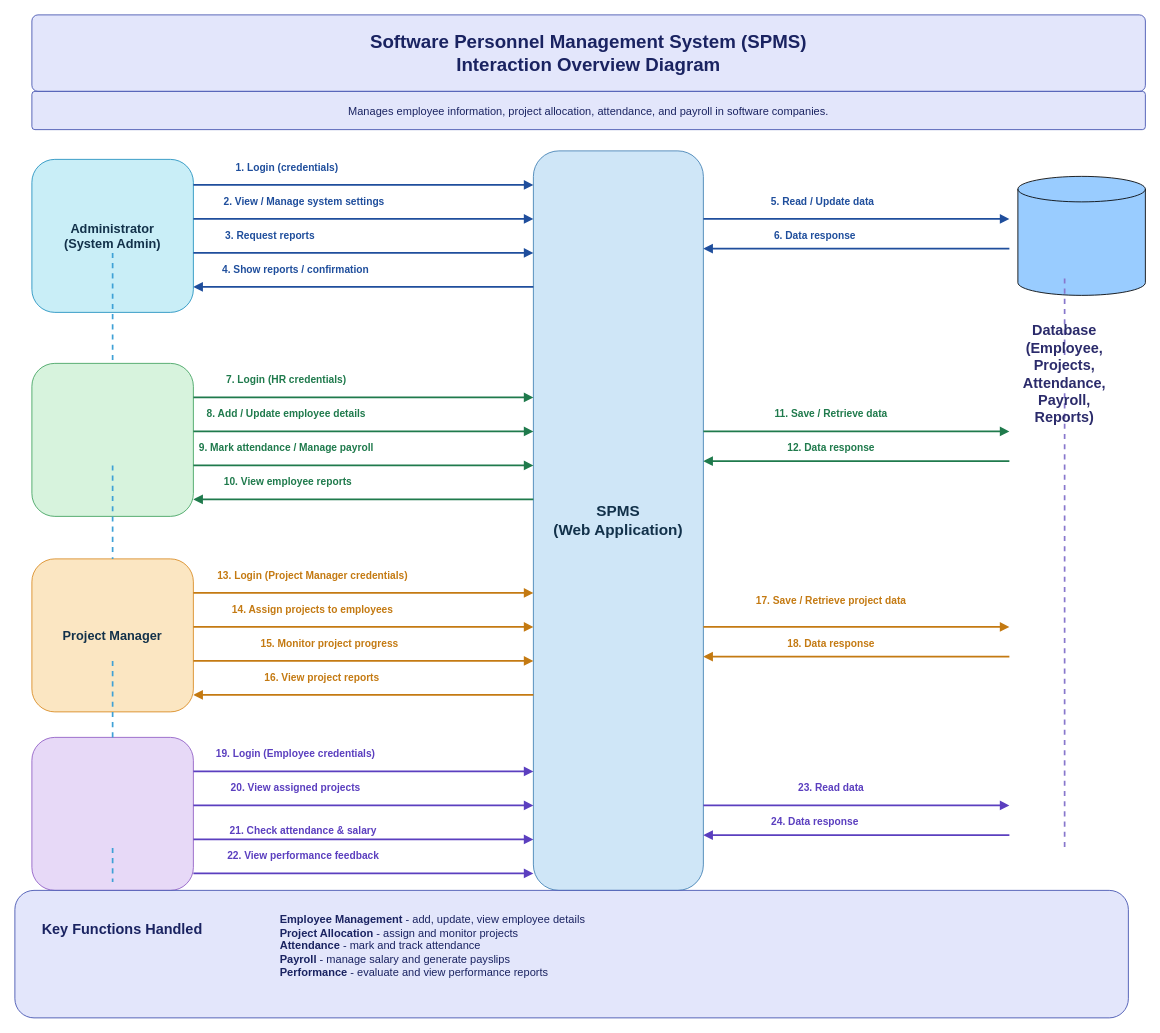
Image size: 1160x1033. Some labels were removed from this diagram. The shapes that lost their labels are listed below. From the top down, each one's box as (x1, y1, x2, y2) in pixels, then its label:
(31, 363, 193, 516): HR Manager
(31, 737, 193, 890): Employee
